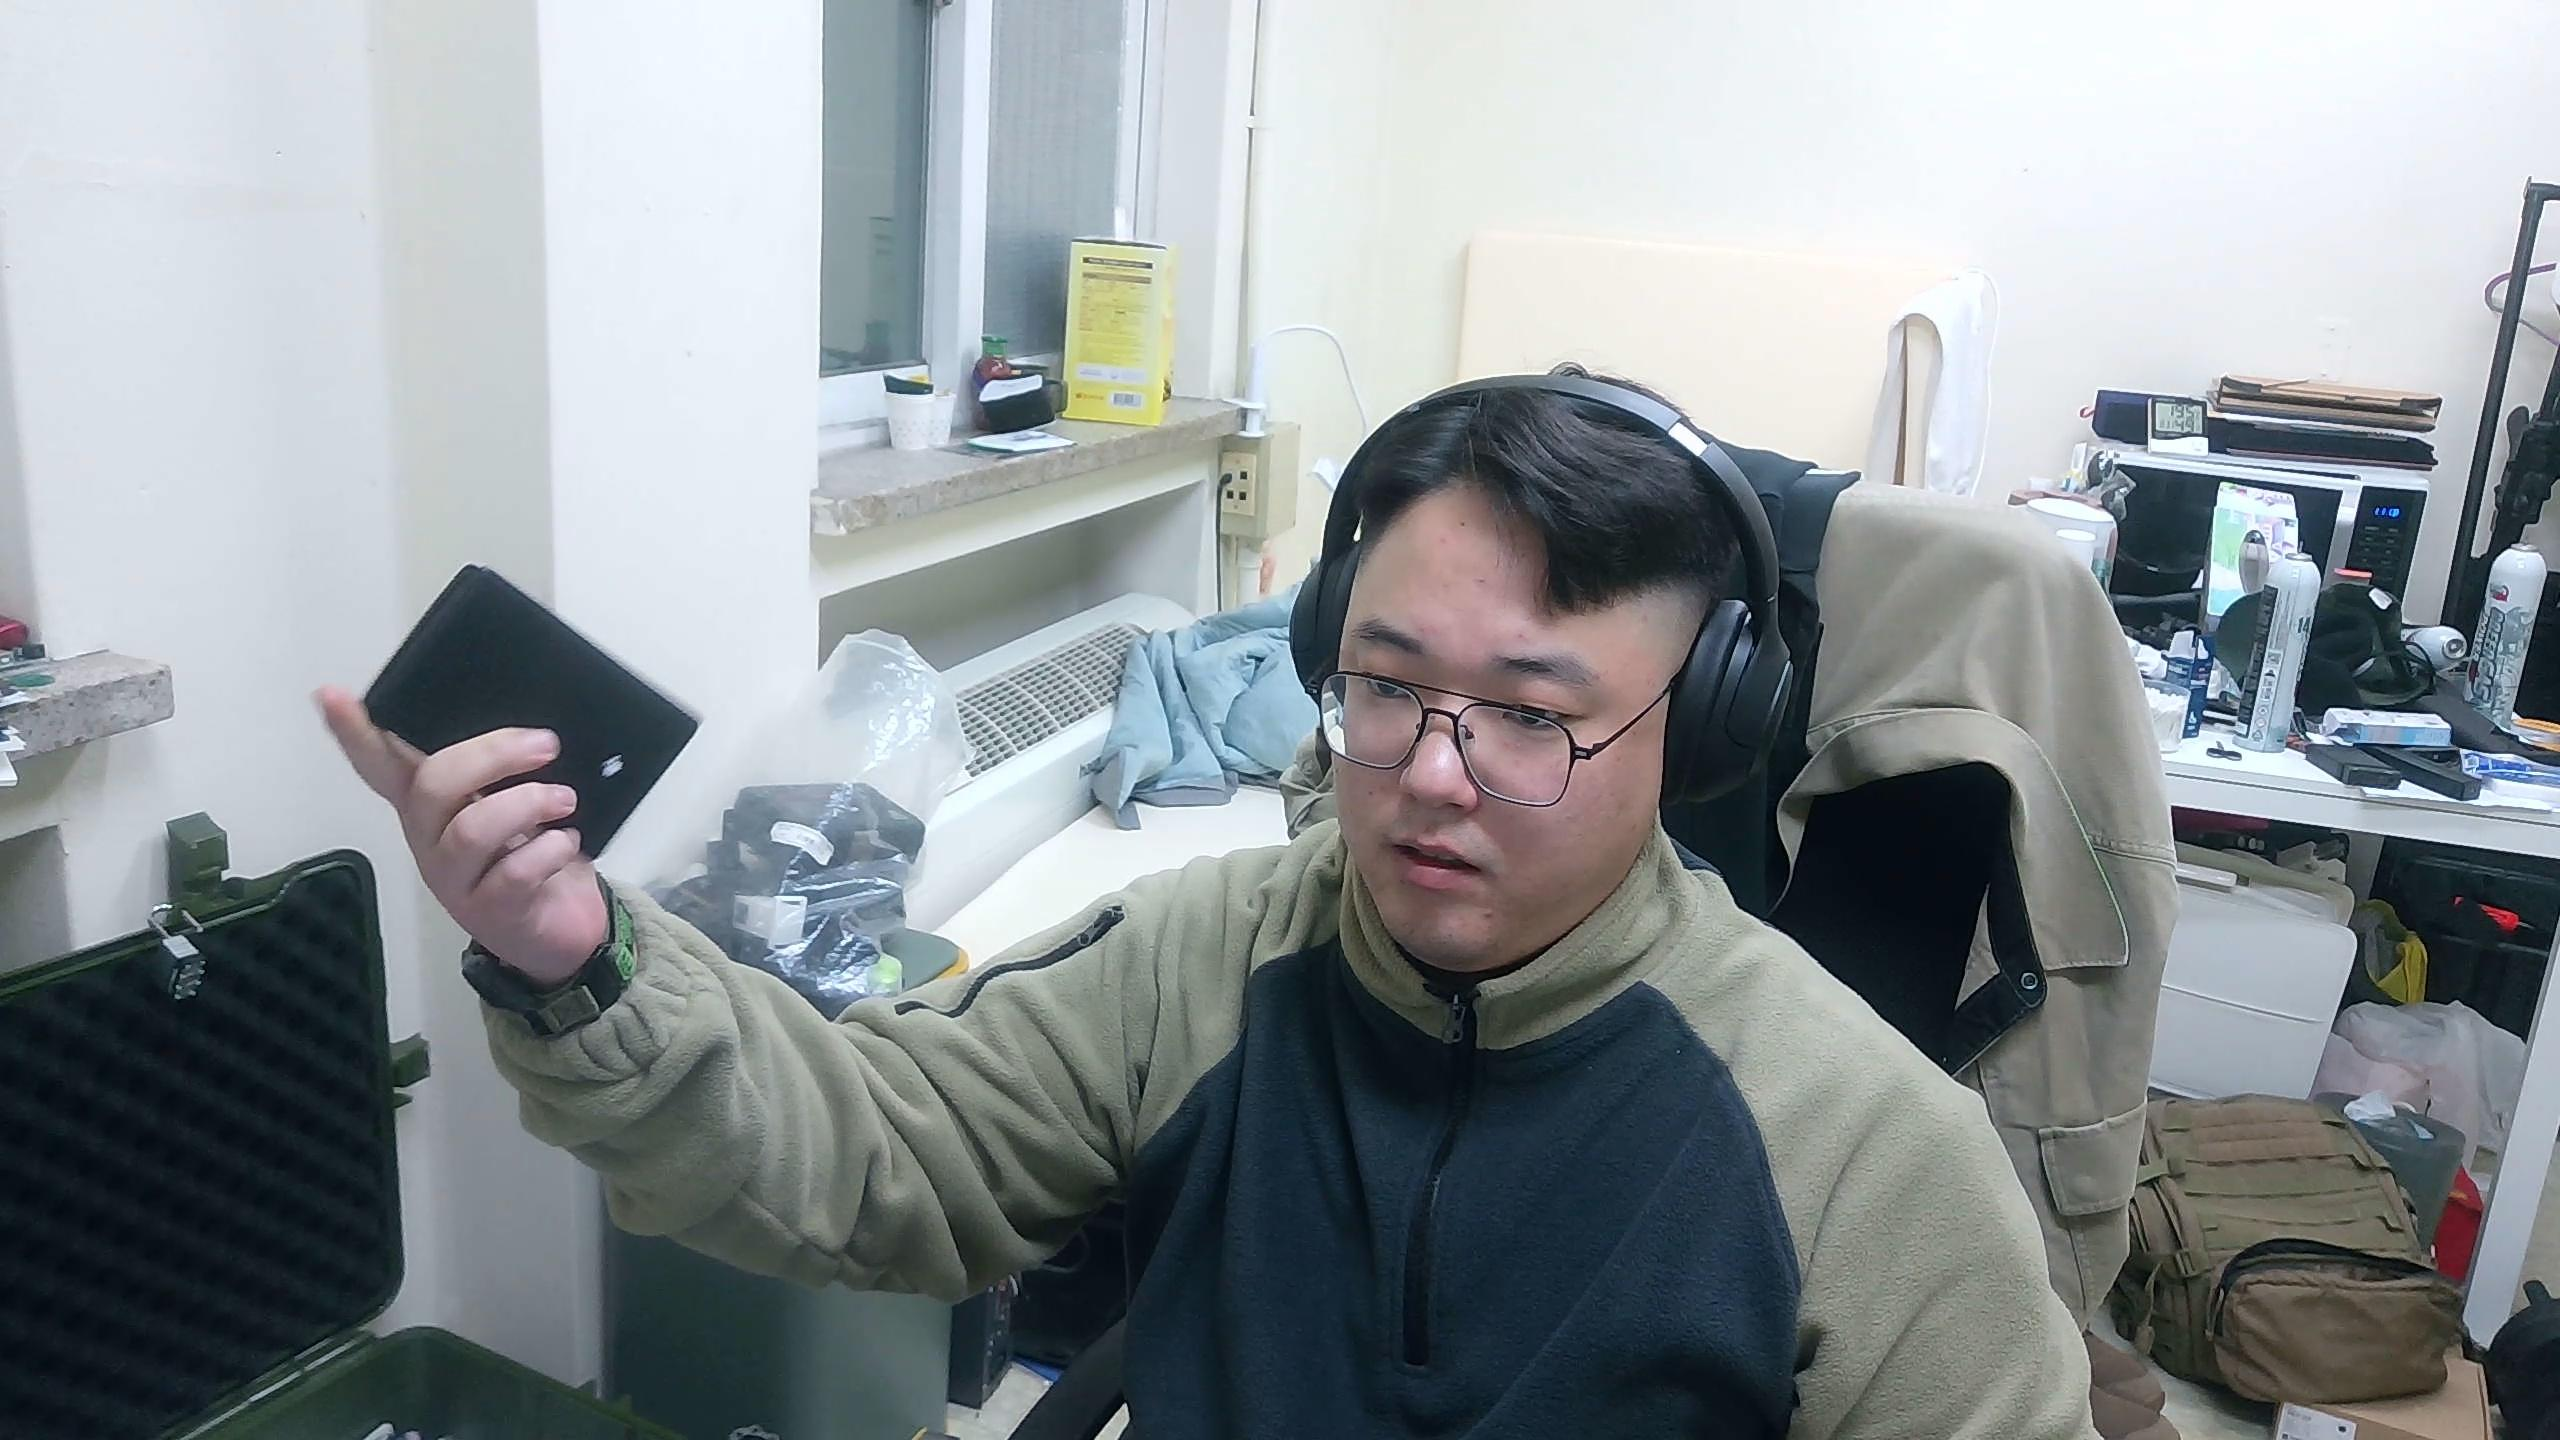Wallet: (357, 559, 705, 867)
